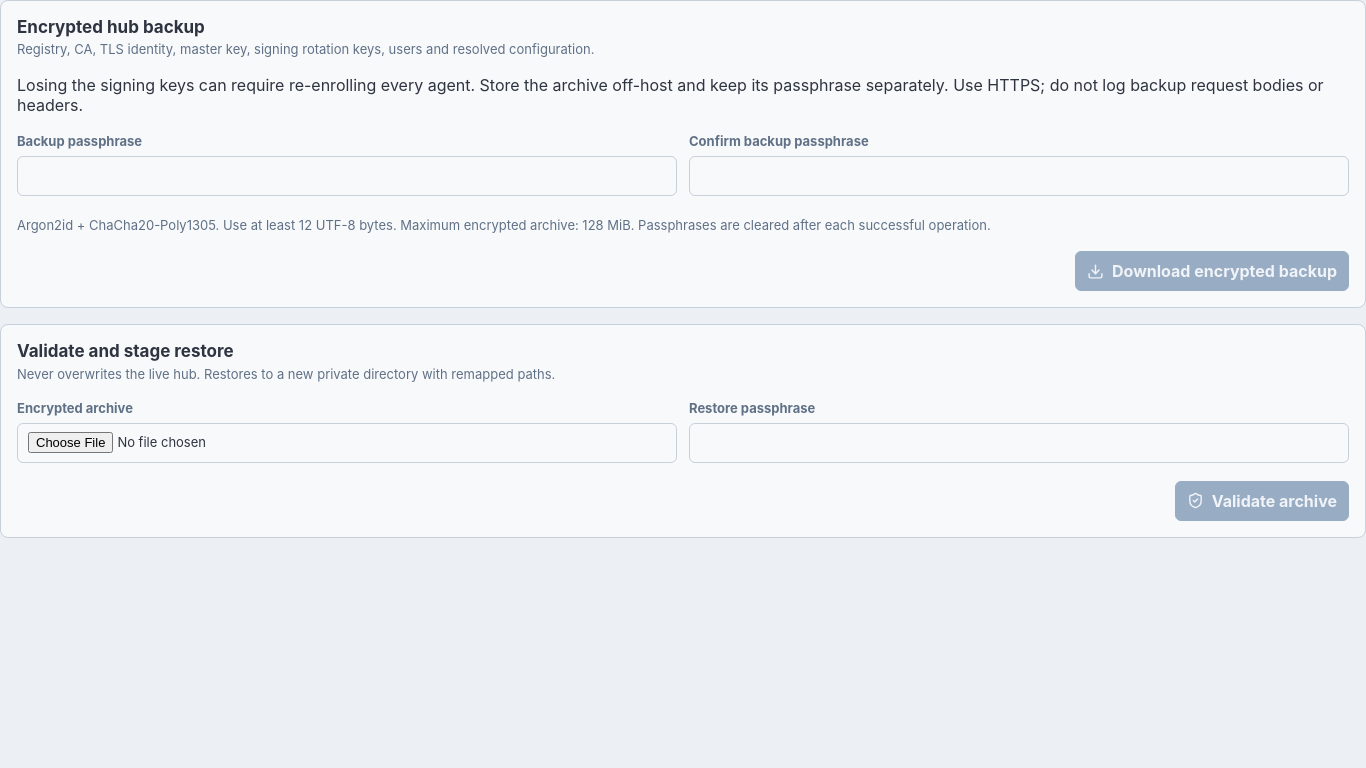
requires matching passphrases, downloads ciphertext and clears both inputs
The image size is (1366, 768).
Expected: the button "Download encrypted backup" is disabled, x1=1075 y1=251 x2=1349 y2=291
Type "private-backup-passphrase" into the password field labelled "Backup passphrase" at (347,176), box x1=17 y1=156 x2=677 y2=196
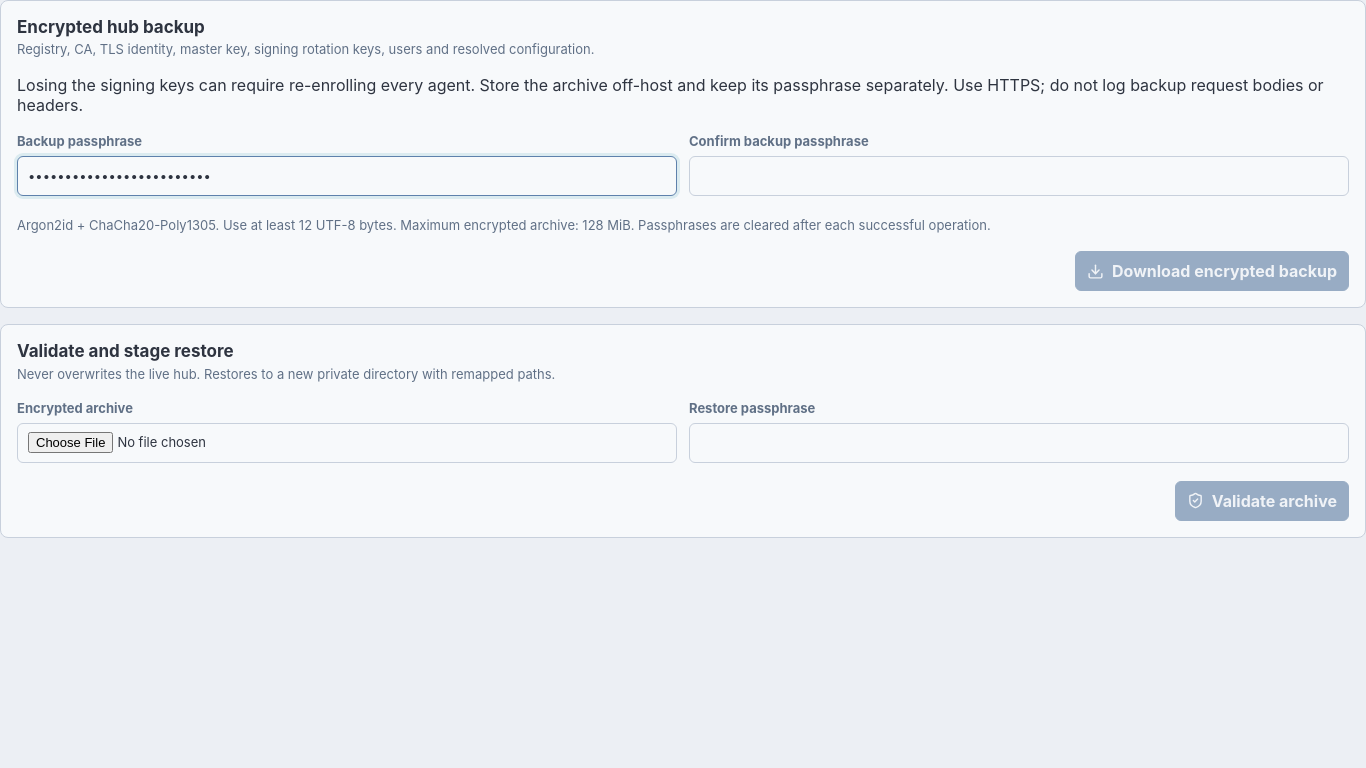
Type "different" into the password field labelled "Confirm backup passphrase" at (1019,176), box x1=689 y1=156 x2=1349 y2=196
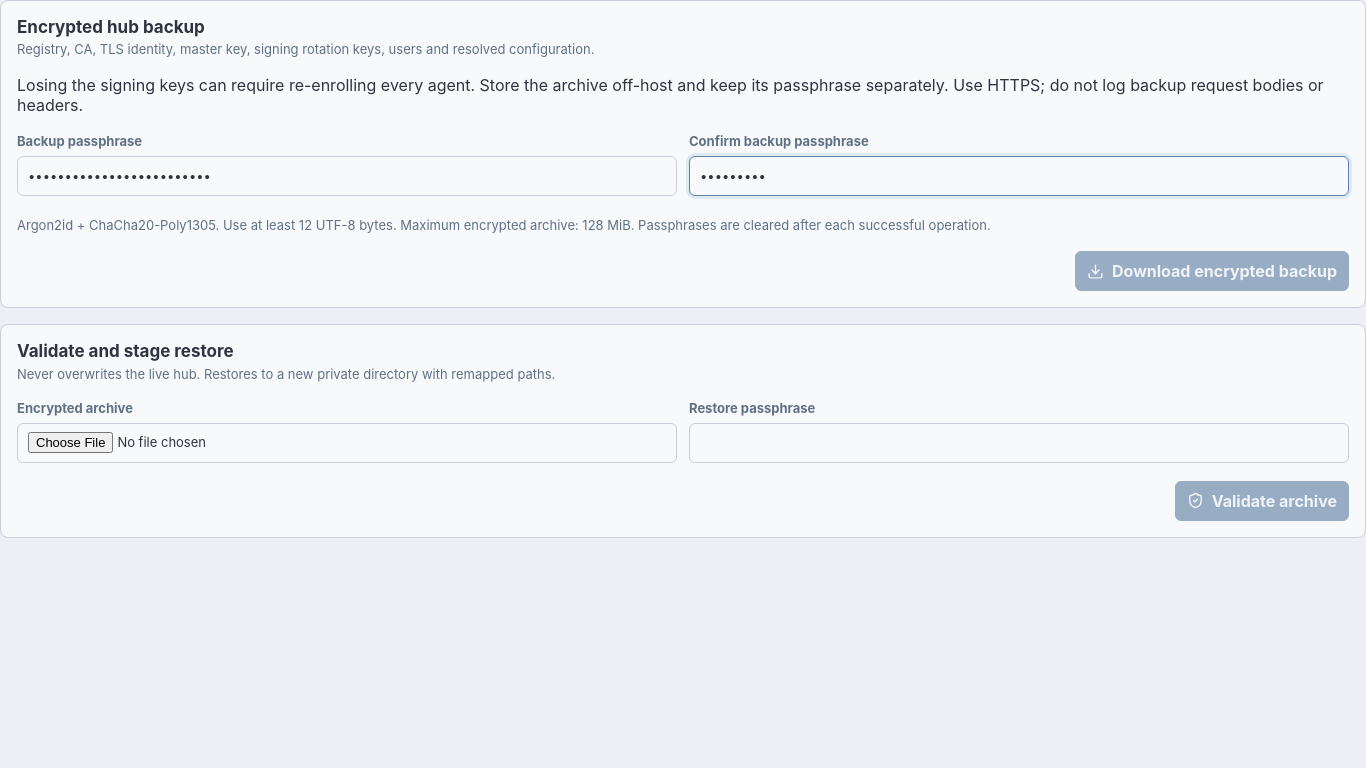
Expected: the button "Download encrypted backup" is disabled, x1=1075 y1=251 x2=1349 y2=291
Type "private-backup-passphrase" into the password field labelled "Confirm backup passphrase" at (1019,176), box x1=689 y1=156 x2=1349 y2=196
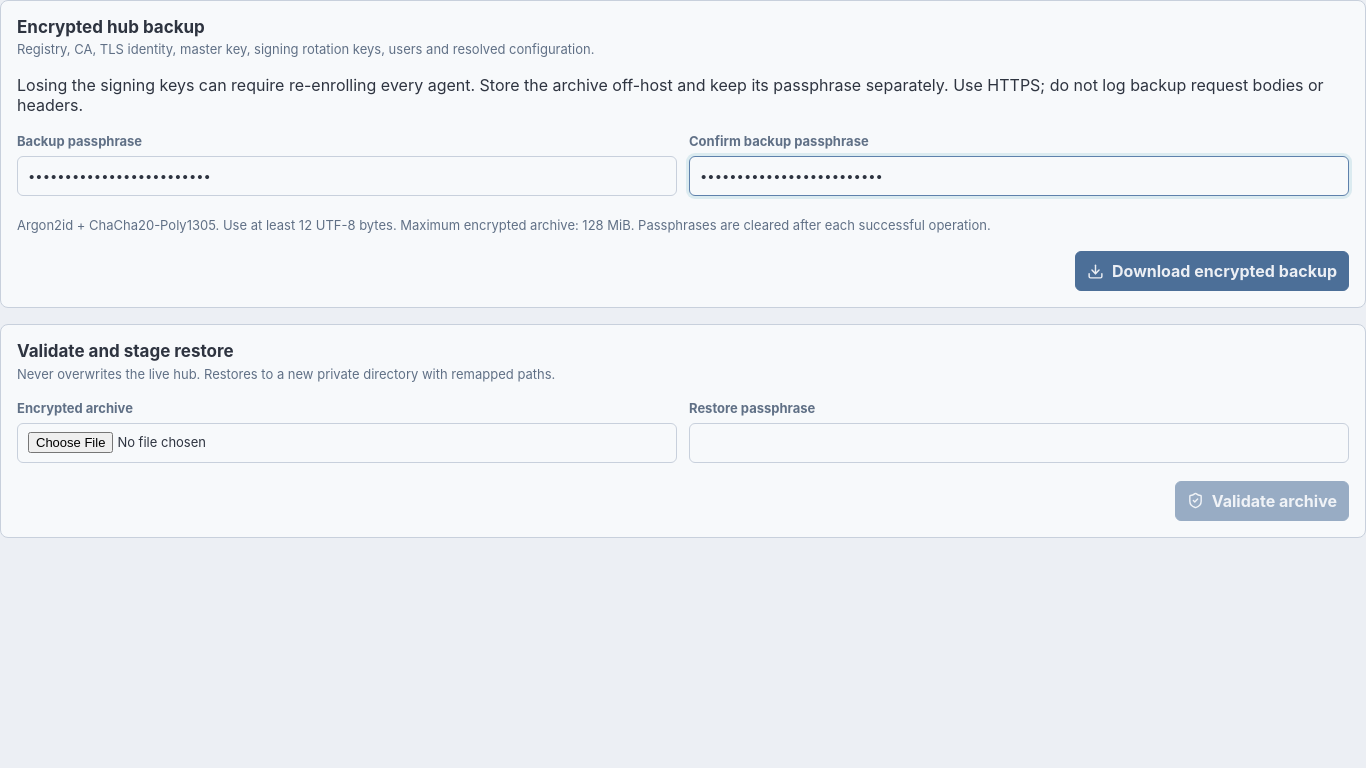
Click the button "Download encrypted backup" at (1212,271), box x1=1075 y1=251 x2=1349 y2=291
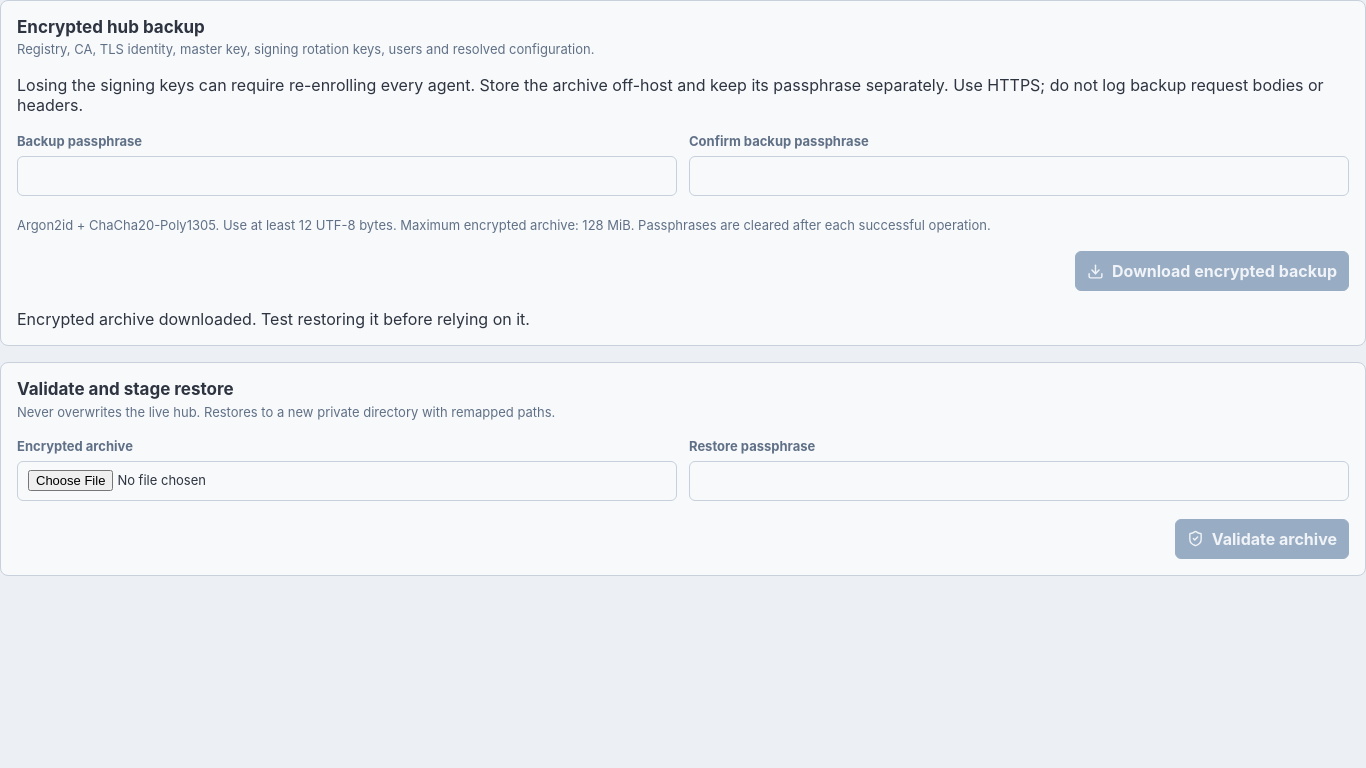
Expected: the text "Encrypted archive downloaded. Test restoring it before relying on it." is shown, x1=17 y1=309 x2=530 y2=329
Expected: the password field labelled "Backup passphrase" is empty, x1=17 y1=156 x2=677 y2=196
